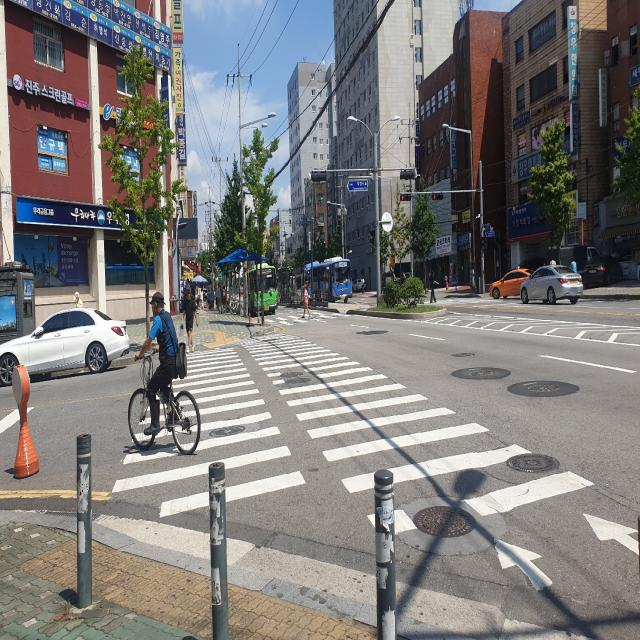횡단보도: (110, 332, 640, 595), (279, 316, 330, 323)
